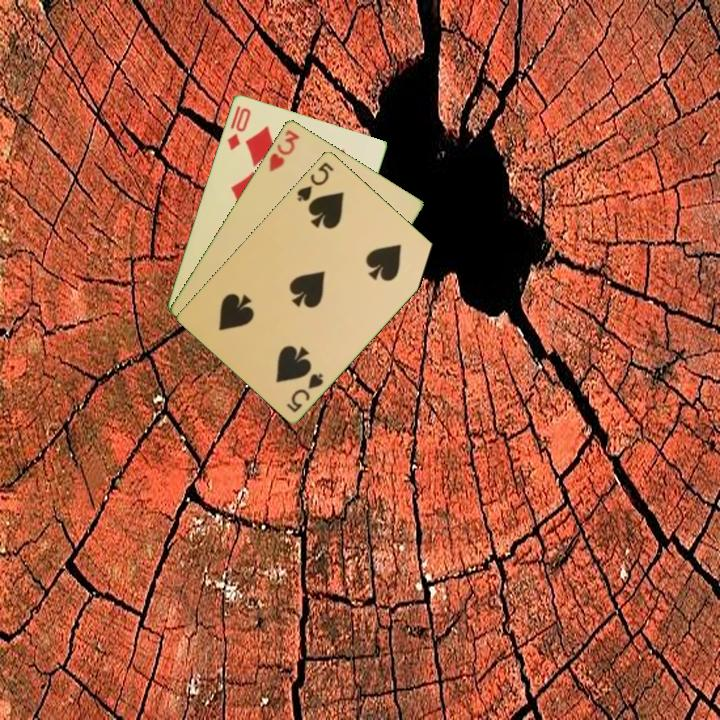10d: (223, 104, 254, 153)
3h: (265, 126, 302, 175)
5s: (293, 158, 336, 204), (283, 369, 326, 415)
